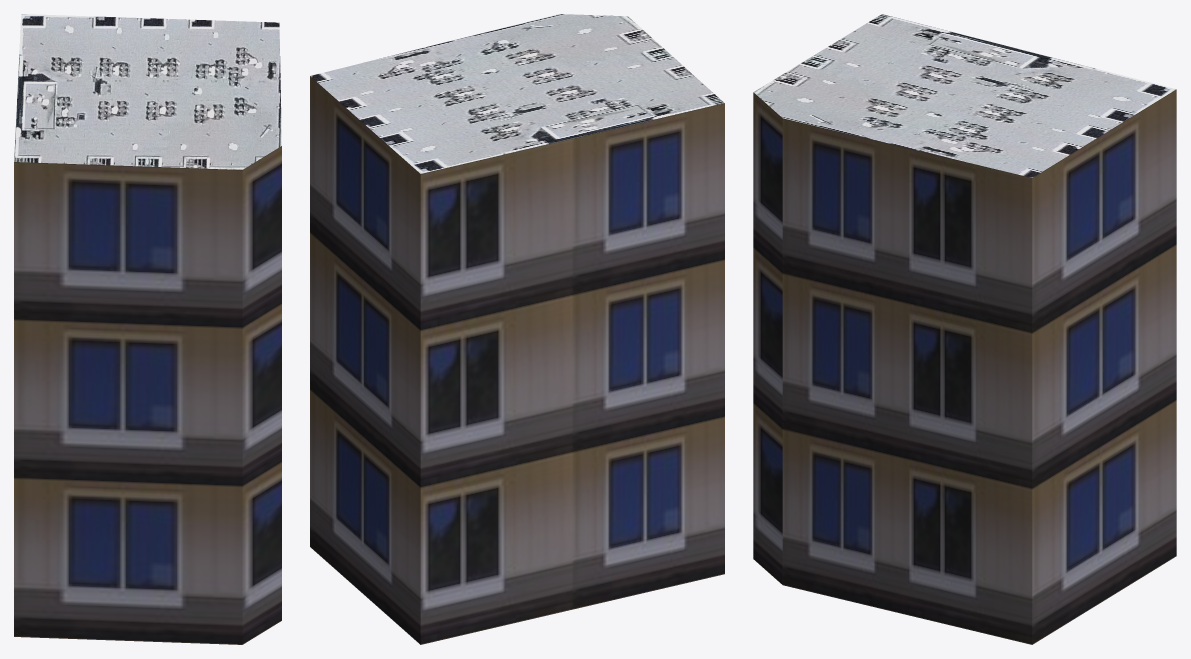
File: ResTex__2744.fbx
The picture shows the model from 3 angles, left to right: view 1: azimuth 30°, elevation 25°; view 2: azimuth 150°, elevation 25°; view 3: azimuth 270°, elevation 25°; orthographic projection.
Parts seen in each view (by area): view 1: CityEngineMaterial_5_m, CityEngineMaterial_2_m; view 2: CityEngineMaterial_5_m, CityEngineMaterial_2_m; view 3: CityEngineMaterial_5_m, CityEngineMaterial_2_m.
Part boxes in pixels (<box>): CityEngineMaterial_5_m: <box>14,146,281,644</box>; CityEngineMaterial_2_m: <box>14,14,281,169</box>; CityEngineMaterial_5_m: <box>310,76,724,644</box>; CityEngineMaterial_2_m: <box>310,14,724,173</box>; CityEngineMaterial_5_m: <box>753,89,1176,644</box>; CityEngineMaterial_2_m: <box>753,14,1175,177</box>.
Size of the model in its own units: 6.78 by 9 by 7.39.
Materials: 2 (2 with a texture image).
